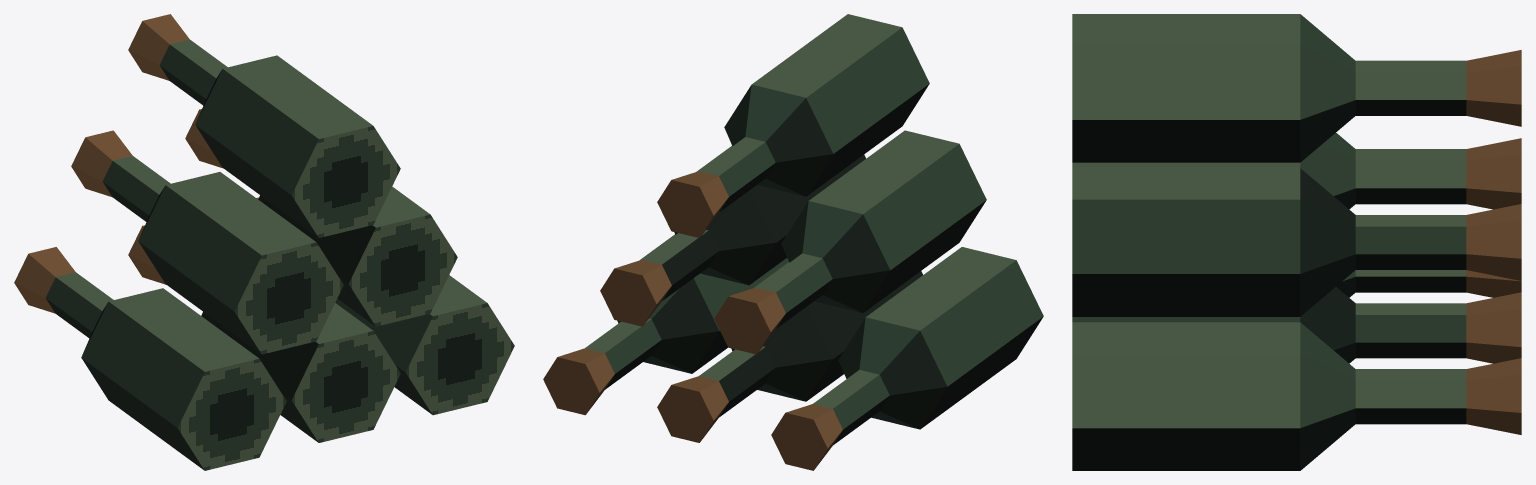
File: fuellung_flaschen_pyramide_glatt.glb
3 views of the same model, side by side, from view 1: azimuth 30°, elevation 25°; view 2: azimuth 150°, elevation 25°; view 3: azimuth 270°, elevation 25° (orthographic). The views are drawn at different scales.
Visible parts, largest first — view 1: flaschen_pyramide_gruen_glatt; view 2: flaschen_pyramide_gruen_glatt; view 3: flaschen_pyramide_gruen_glatt.
Boxes of the visible parts, x1,y1,x2,y2 form: flaschen_pyramide_gruen_glatt: (14, 14, 514, 470); flaschen_pyramide_gruen_glatt: (543, 14, 1043, 470); flaschen_pyramide_gruen_glatt: (1072, 14, 1521, 470).
Size of the model in its own units: 0.3668 by 0.3159 by 0.3575.
1 material, 1 textured.
